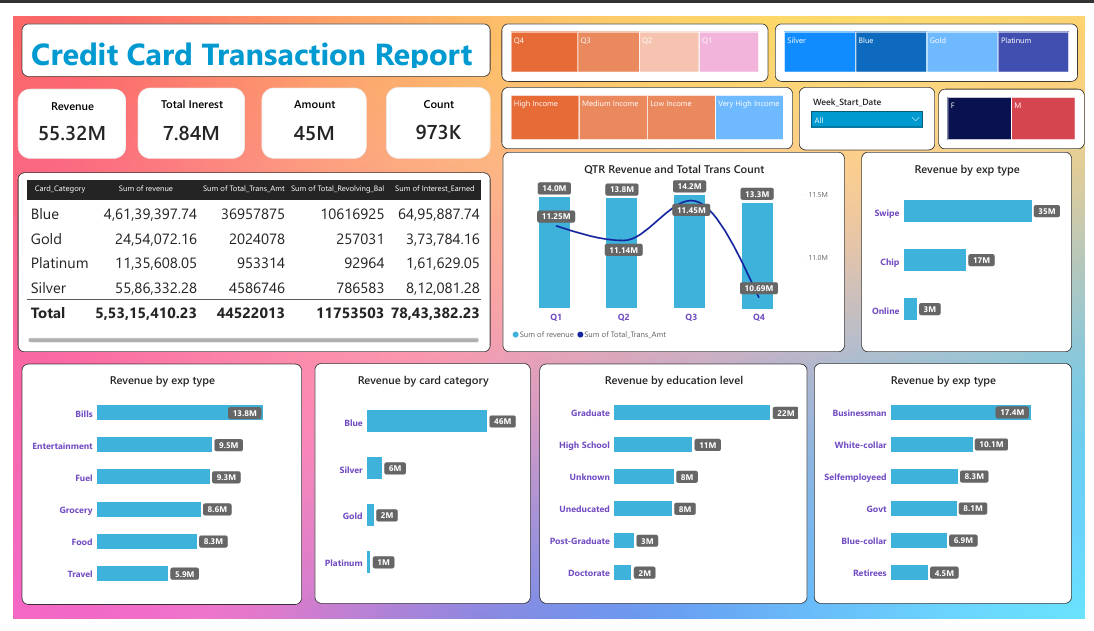

What the dashboard file says about the page in this screenshot:
{"tool":"powerbi","page":{"name":"Credit_card Transaction","canvas":[1920,1080],"ordinal":0},"visuals":[{"type":"shape","box":[15,13.3,840,95],"z":0},{"type":"lineClusteredColumnComboChart","title":"QTR Revenue and Total Trans Count","fields":{"Category":["credit_card.Qtr"],"Y":["Sum(credit_card.revenue)"],"Y2":["Sum(credit_card.Total_Trans_Amt)"]},"box":[876.7,243.3,613.3,358.3],"z":1000},{"type":"barChart","title":"Revenue by exp type","fields":{"Y":["Sum(credit_card.revenue)"],"Category":["credit_card.Exp Type"]},"box":[15,623.3,501.7,431.7],"z":2000},{"type":"barChart","title":"Revenue by education level","fields":{"Y":["Sum(credit_card.revenue)"],"Category":["customer.Education_Level"]},"box":[943.3,623.3,480,430],"z":3000},{"type":"barChart","title":"Revenue by exp type","fields":{"Y":["Sum(credit_card.revenue)"],"Category":["customer.Customer_Job"]},"box":[1435,621.7,461.7,431.7],"z":4000},{"type":"barChart","title":"Revenue by card category","fields":{"Y":["Sum(credit_card.revenue)"],"Category":["credit_card.Card_Category"]},"box":[540,621.7,386.7,431.7],"z":5000},{"type":"barChart","title":"Revenue by exp type","fields":{"Y":["Sum(credit_card.revenue)"],"Category":["credit_card.Use Chip"]},"box":[1520,243.3,376.7,358.3],"z":6000},{"type":"tableEx","fields":{"Values":["credit_card.Card_Category","Sum(credit_card.revenue)","Sum(credit_card.Total_Trans_Amt)","Sum(credit_card.Total_Revolving_Bal)","Sum(credit_card.Interest_Earned)"]},"box":[8.3,280,846.7,321.7],"z":7000},{"type":"cardVisual","title":"Revenue","fields":{"Data":["Sum(credit_card.revenue)"]},"box":[8.3,130,193.3,125],"z":8000},{"type":"cardVisual","title":"Total Inerest","fields":{"Data":["Sum(credit_card.Interest_Earned)"]},"box":[223.3,128.3,191.7,126.7],"z":9000},{"type":"cardVisual","title":"Amount","fields":{"Data":["Sum(credit_card.Total_Trans_Amt)"]},"box":[445,128.3,188.3,126.7],"z":10000},{"type":"cardVisual","title":"Count","fields":{"Data":["Sum(credit_card.Customer_Acq_Cost)"]},"box":[668.3,126.7,186.7,128.3],"z":11000},{"type":"slicer","fields":{"Values":["credit_card.Week_Start_Date"]},"box":[1408.3,126.7,243.3,113.3],"z":12000},{"type":"treemap","fields":{"Group":["credit_card.Qtr"],"Values":["Avg(credit_card.Client_Num)"]},"box":[875,13.3,478.3,103.3],"z":13000},{"type":"treemap","fields":{"Values":["Avg(credit_card.Client_Num)"],"Group":["customer.Gender"]},"box":[1658.3,130,261.7,108.3],"z":14000},{"type":"treemap","fields":{"Values":["Avg(credit_card.Client_Num)"],"Group":["credit_card.Card_Category"]},"box":[1365,13.3,543.3,103.3],"z":15000},{"type":"treemap","fields":{"Values":["Avg(credit_card.Client_Num)"],"Group":["customer.Income Group"]},"box":[875,126.7,521.7,111.7],"z":16000}]}

Visuals, with their boxes in screenshot pixels (x1, y1, x2, y2), scaled from the page's 1920x1080 canvas onto the 1094x631 screenshot:
shape: x1=9, y1=8, x2=487, y2=63
"QTR Revenue and Total Trans Count" lineClusteredColumnComboChart: x1=500, y1=142, x2=849, y2=351
"Revenue by exp type" barChart: x1=9, y1=364, x2=294, y2=616
"Revenue by education level" barChart: x1=537, y1=364, x2=811, y2=615
"Revenue by exp type" barChart: x1=818, y1=363, x2=1081, y2=615
"Revenue by card category" barChart: x1=308, y1=363, x2=528, y2=615
"Revenue by exp type" barChart: x1=866, y1=142, x2=1081, y2=351
tableEx - credit_card.Card_Category x Sum(credit_card.revenue): x1=5, y1=164, x2=487, y2=352
"Revenue" cardVisual: x1=5, y1=76, x2=115, y2=149
"Total Inerest" cardVisual: x1=127, y1=75, x2=236, y2=149
"Amount" cardVisual: x1=254, y1=75, x2=361, y2=149
"Count" cardVisual: x1=381, y1=74, x2=487, y2=149
slicer - credit_card.Week_Start_Date: x1=802, y1=74, x2=941, y2=140
treemap - credit_card.Qtr x Avg(credit_card.Client_Num): x1=499, y1=8, x2=771, y2=68
treemap - Avg(credit_card.Client_Num) x customer.Gender: x1=945, y1=76, x2=1093, y2=139
treemap - Avg(credit_card.Client_Num) x credit_card.Card_Category: x1=778, y1=8, x2=1087, y2=68
treemap - Avg(credit_card.Client_Num) x customer.Income Group: x1=499, y1=74, x2=796, y2=139
